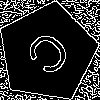C: (22, 27, 81, 86)
